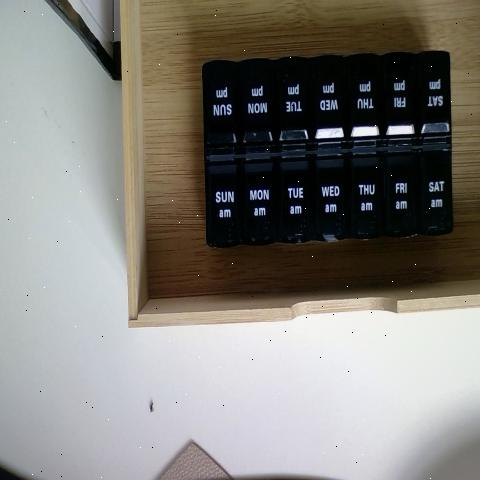FRI-am: (381, 150, 412, 238)
FRI-pm: (382, 55, 413, 138)
MON-am: (242, 150, 273, 238)
MON-pm: (238, 60, 268, 140)
SAT-am: (415, 140, 453, 236)
SAT-pm: (415, 50, 452, 142)
SUN-am: (204, 152, 240, 240)
SUN-pm: (202, 63, 236, 142)
THU-am: (346, 150, 379, 236)
THU-pm: (344, 55, 382, 142)
TUE-am: (272, 148, 306, 235)
TUE-pm: (273, 53, 308, 143)
WED-am: (310, 146, 344, 238)
WED-pm: (308, 58, 344, 148)
